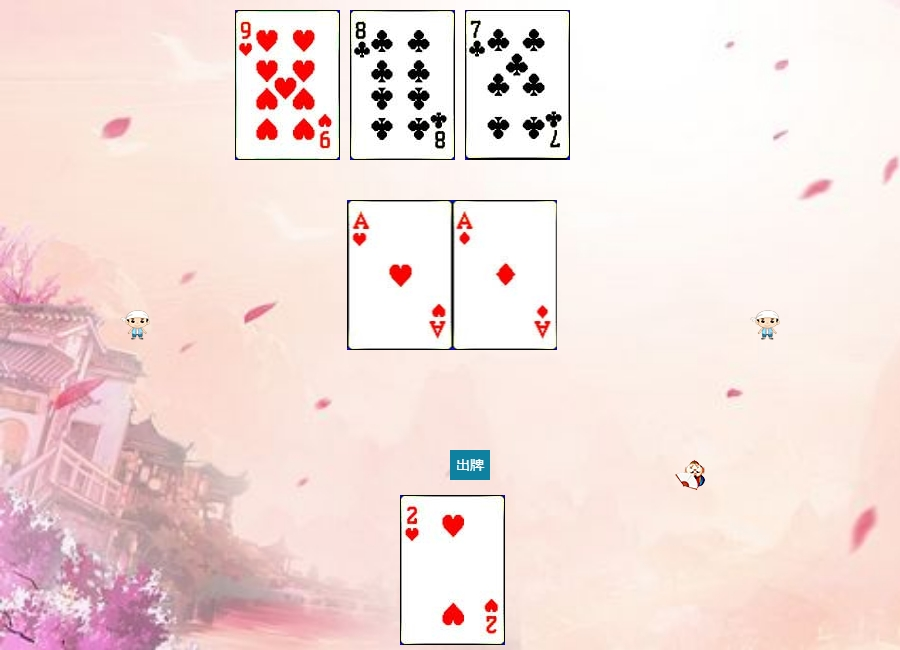14~1: (453, 200, 558, 350)
14~3: (348, 200, 453, 350)
15~3: (400, 495, 505, 645)
7~2: (465, 10, 570, 160)
8~2: (350, 10, 455, 160)
9~3: (235, 10, 340, 160)
